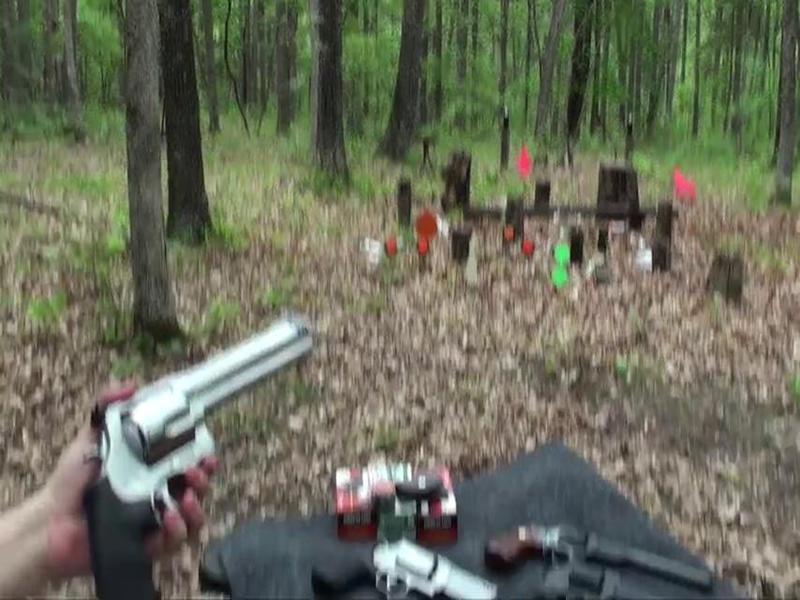Revolver: (74, 299, 317, 573)
